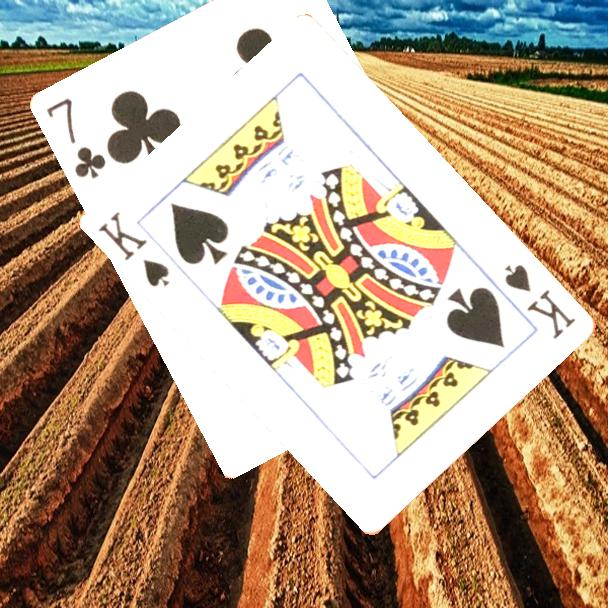c07: (43, 94, 110, 182)
s13: (501, 260, 579, 343), (95, 208, 173, 291)
